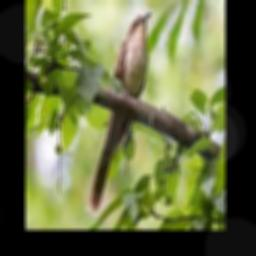Cuckoo: (84, 11, 151, 214)
